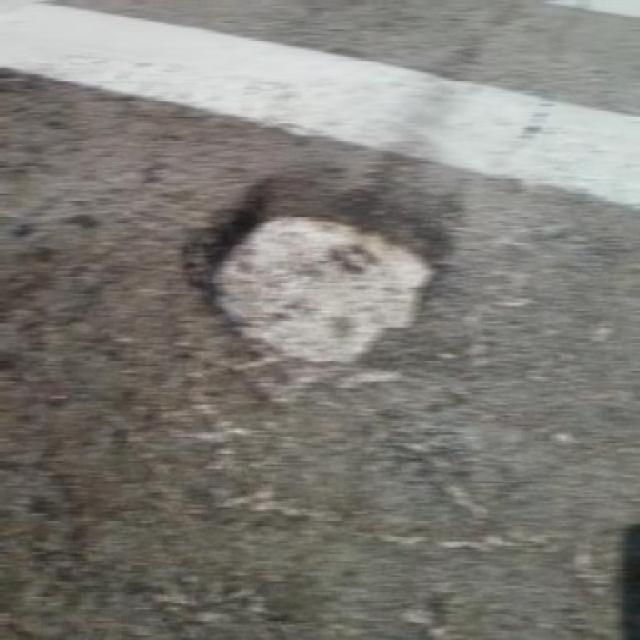Pothole: (172, 163, 468, 398)
